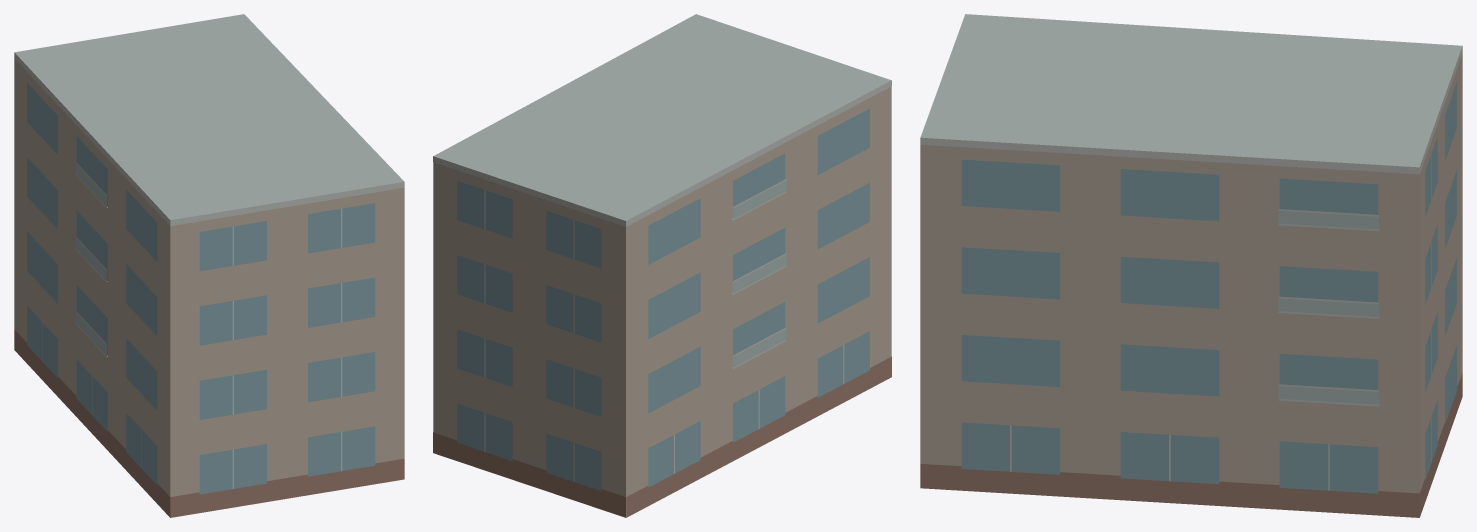
Rendered from survey-upis-32689695.glb.
The picture shows the model from 3 angles, left to right: view 1: azimuth 30°, elevation 25°; view 2: azimuth 150°, elevation 25°; view 3: azimuth 270°, elevation 25°; orthographic projection. The views are drawn at different scales.
Visible parts, largest first — view 1: survey-upis-32689695.tmp; view 2: survey-upis-32689695.tmp; view 3: survey-upis-32689695.tmp.
Boxes of the visible parts, x1,y1,x2,y2 form: survey-upis-32689695.tmp: (14, 14, 404, 517); survey-upis-32689695.tmp: (433, 14, 891, 517); survey-upis-32689695.tmp: (920, 14, 1462, 517).
Bounding box in the file's own units: 11.46 × 12.2 × 17.12.
